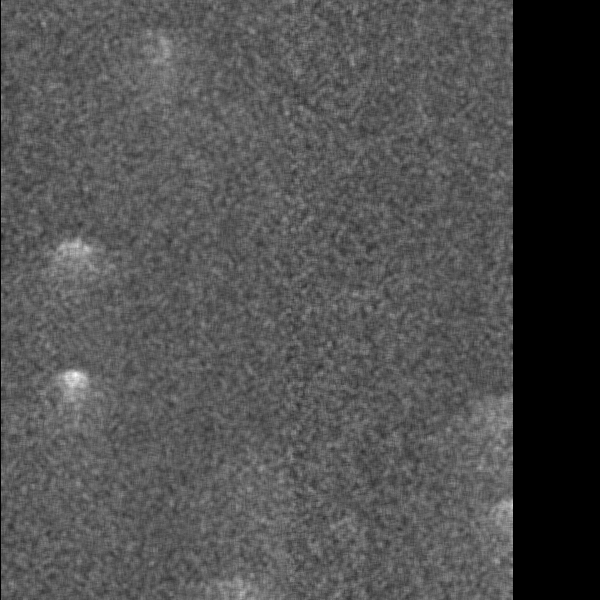spark: (121, 192, 178, 262), (345, 32, 399, 70), (133, 457, 193, 488), (1, 203, 38, 239), (310, 205, 326, 241)
